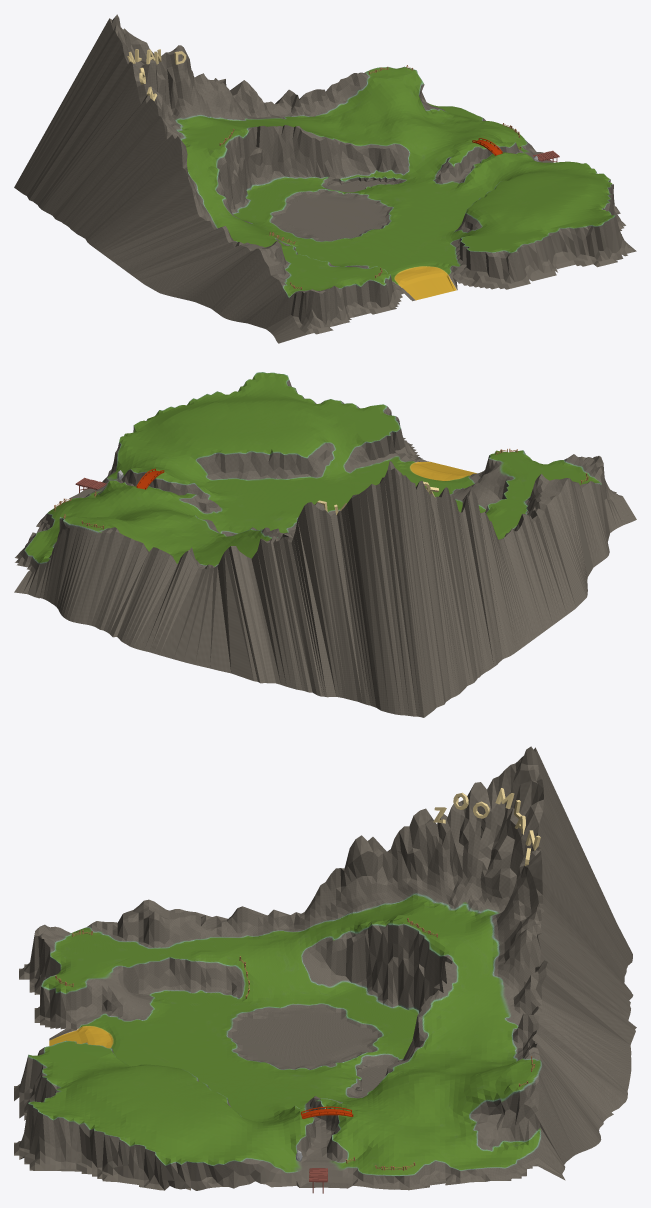
The model's file is Landscape.glb.
3 views of the same model, one above another, from view 1: azimuth 30°, elevation 25°; view 2: azimuth 150°, elevation 25°; view 3: azimuth 270°, elevation 25° (orthographic). The views are drawn at different scales.
Visible parts, largest first — view 1: Map, Text; view 2: Map; view 3: Map, Text.
Boxes of the visible parts, x1,y1,x2,y2 form: Map: [14, 14, 636, 343]; Text: [127, 49, 186, 100]; Map: [14, 372, 636, 717]; Map: [14, 746, 636, 1190]; Text: [433, 788, 540, 865].
Size of the model in its own units: 21.67 by 8.93 by 21.39.
Materials: 7 (1 with a texture image).
